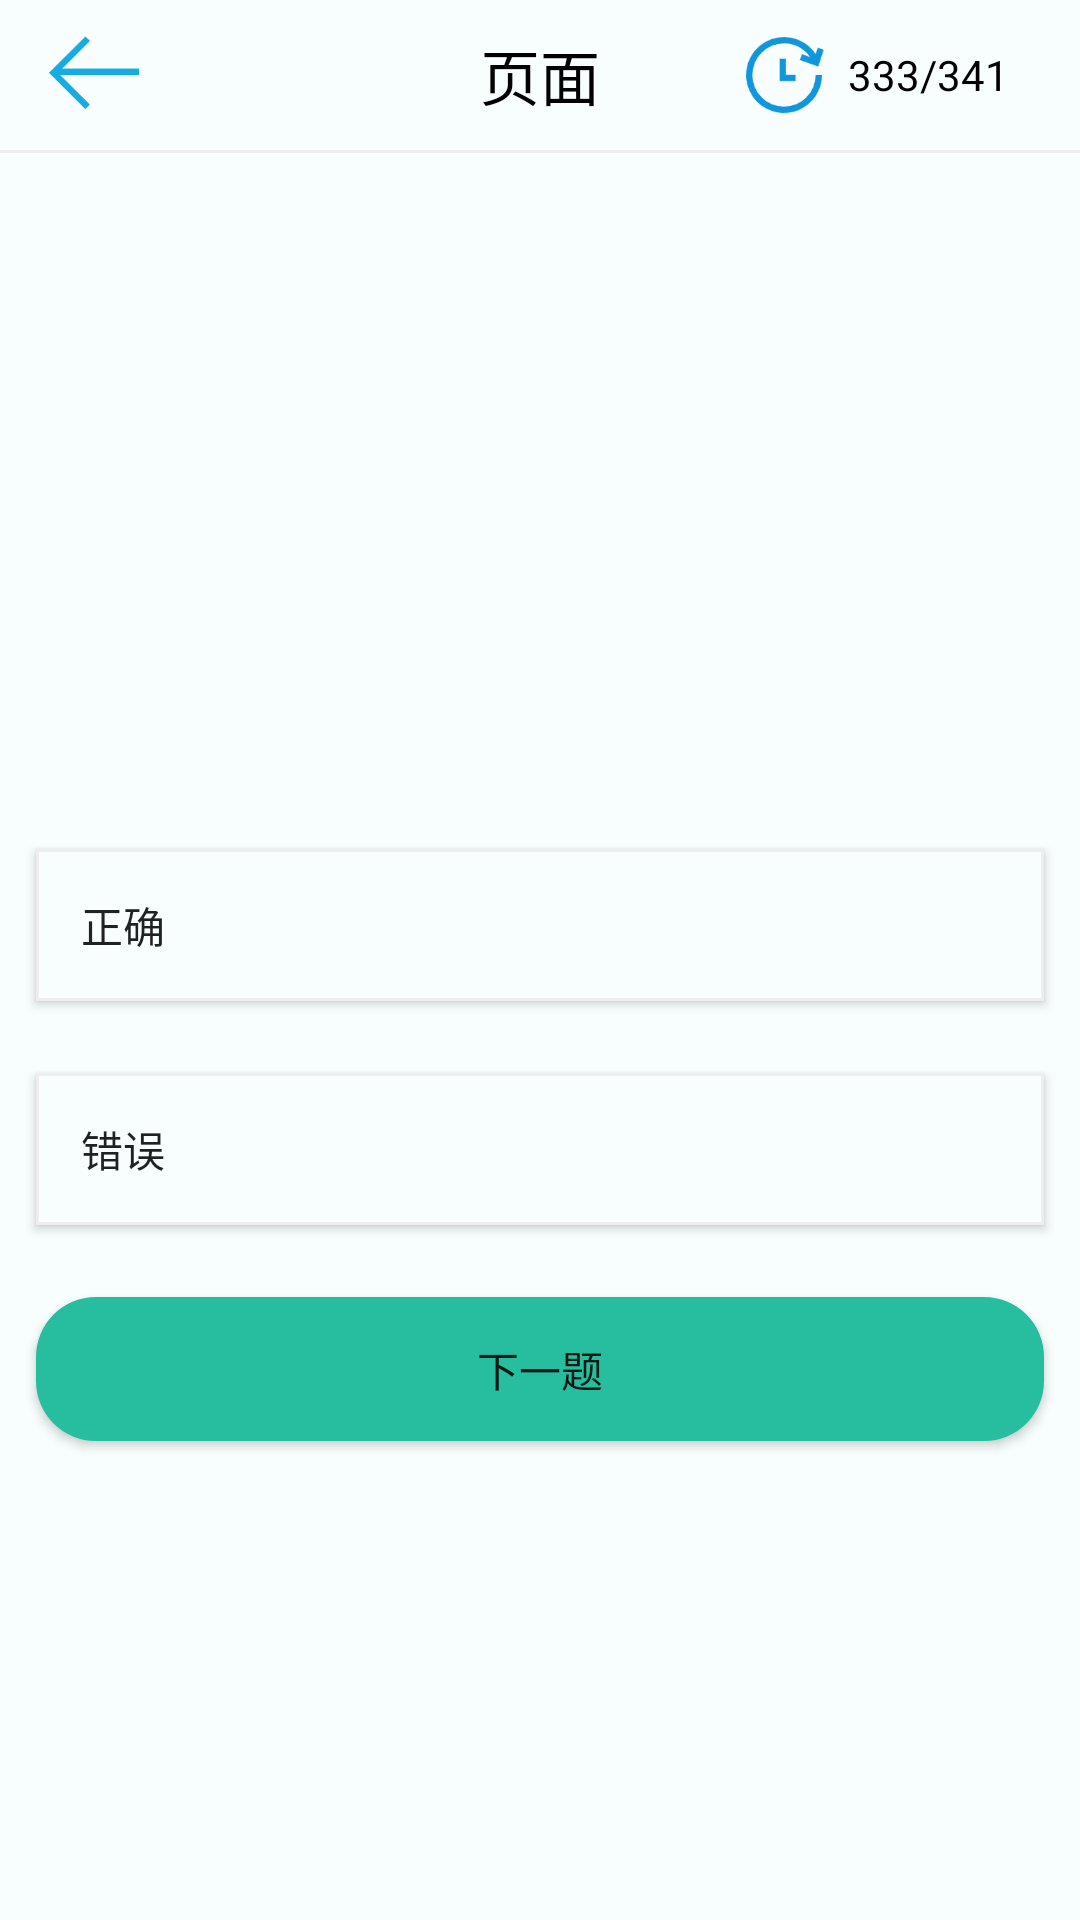

Icon click points for this 1080*1920 phone screenshot, format point (x, y):
back: point (94, 72)
